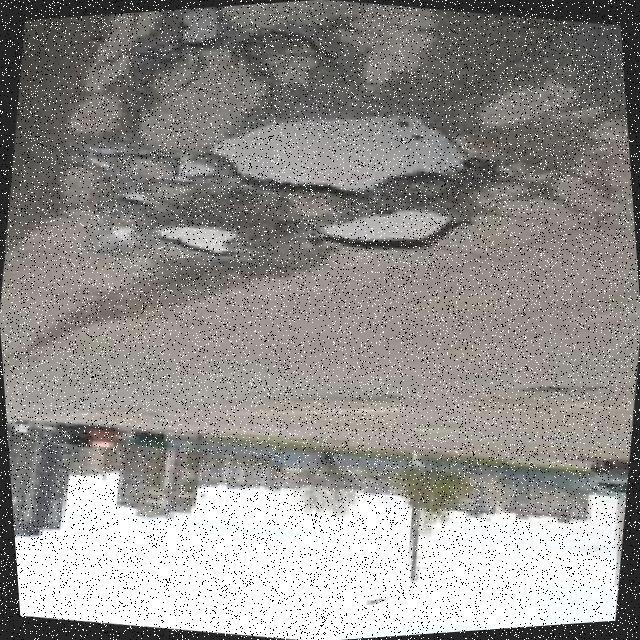Pothole: (210, 115, 458, 189), (324, 211, 449, 239), (159, 225, 234, 252)
